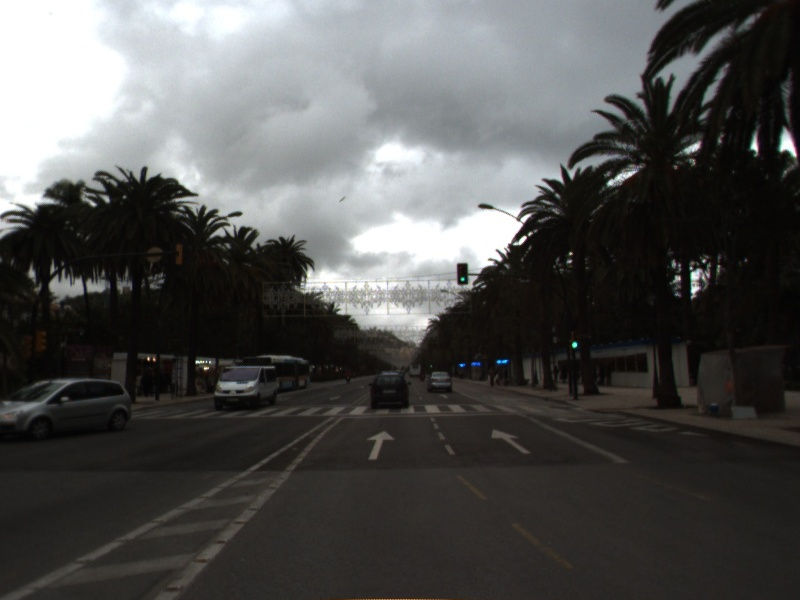STRAIGHT: (488, 427, 534, 456), (364, 429, 398, 462), (436, 391, 450, 401)
